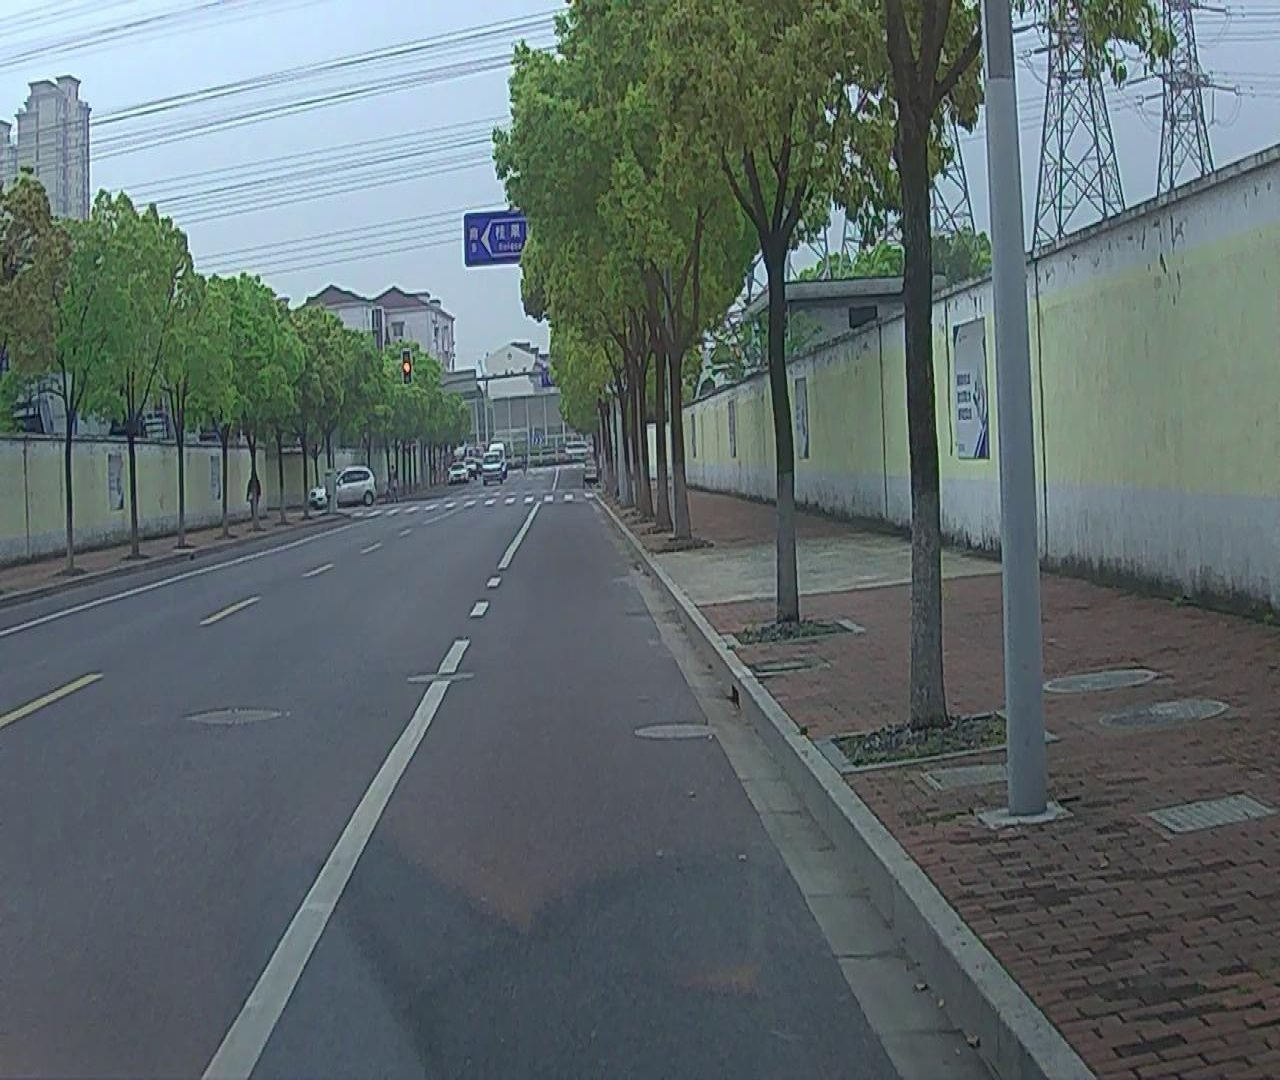yellow: (402, 351, 410, 384)
